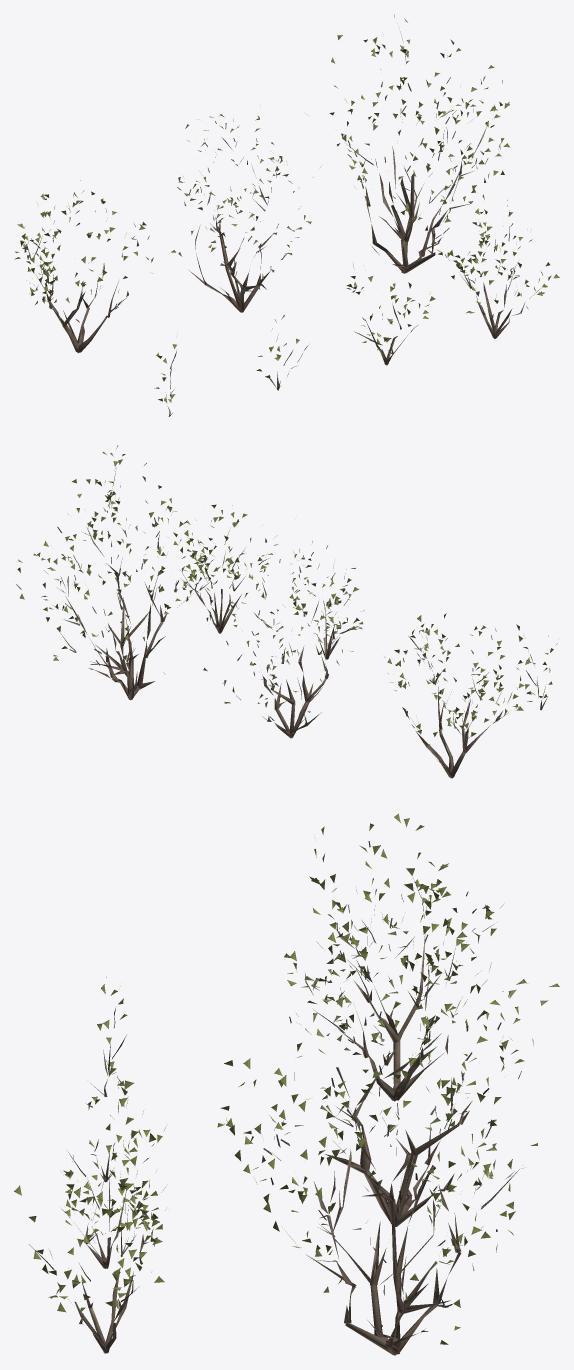
File: searsia_lucida_far.glb
The picture shows the model from 3 angles, top to bottom: view 1: azimuth 30°, elevation 25°; view 2: azimuth 150°, elevation 25°; view 3: azimuth 270°, elevation 25°; orthographic projection. The views are drawn at different scales.
Parts seen in each view (by area): view 1: searsia_lucida_a_LOD0, searsia_lucida_c_LOD0, searsia_lucida_b_LOD0, searsia_lucida_d_LOD0, searsia_lucida_e_LOD0; view 2: searsia_lucida_a_LOD0, searsia_lucida_c_LOD0, searsia_lucida_b_LOD0, searsia_lucida_d_LOD0, searsia_lucida_e_LOD0; view 3: searsia_lucida_a_LOD0, searsia_lucida_b_LOD0, searsia_lucida_c_LOD0, searsia_lucida_d_LOD0, searsia_lucida_e_LOD0.
Boxes of the visible parts, left/top/right/bottom form: searsia_lucida_a_LOD0: left=305, top=14, right=509, bottom=273; searsia_lucida_c_LOD0: left=14, top=180, right=175, bottom=353; searsia_lucida_b_LOD0: left=177, top=114, right=320, bottom=312; searsia_lucida_d_LOD0: left=436, top=194, right=559, bottom=338; searsia_lucida_e_LOD0: left=346, top=263, right=435, bottom=365; searsia_lucida_a_LOD0: left=16, top=445, right=244, bottom=700; searsia_lucida_c_LOD0: left=384, top=613, right=557, bottom=778; searsia_lucida_b_LOD0: left=203, top=541, right=355, bottom=738; searsia_lucida_d_LOD0: left=168, top=504, right=277, bottom=633; searsia_lucida_e_LOD0: left=282, top=569, right=364, bottom=659; searsia_lucida_a_LOD0: left=217, top=953, right=537, bottom=1355; searsia_lucida_b_LOD0: left=284, top=887, right=559, bottom=1226; searsia_lucida_c_LOD0: left=287, top=814, right=503, bottom=1101; searsia_lucida_d_LOD0: left=14, top=1111, right=165, bottom=1353; searsia_lucida_e_LOD0: left=61, top=1075, right=166, bottom=1268.
Bounding box in the file's own units: 4.59 × 2.22 × 2.73.
2 materials, 2 textured.
